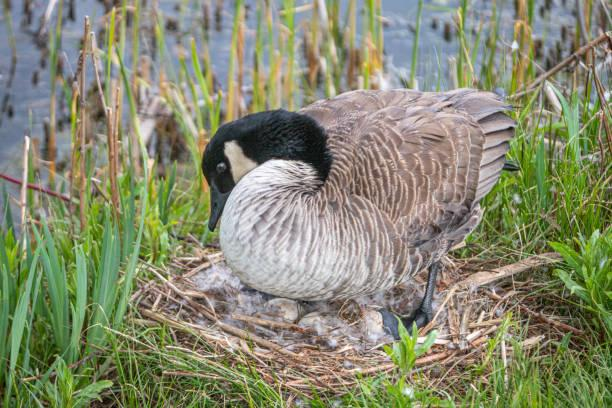Canadian-Goose: (200, 87, 520, 342)
